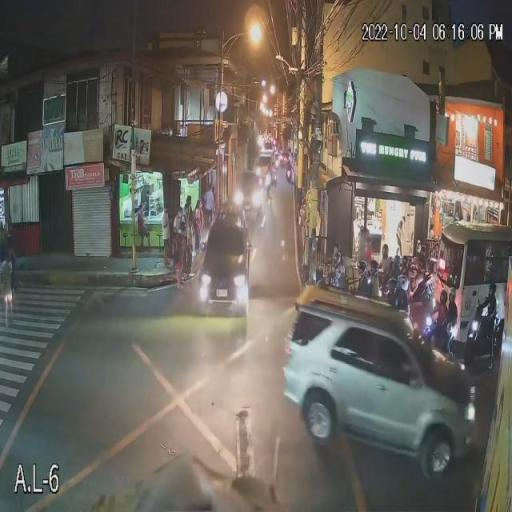helmet: (377, 240, 391, 262), (385, 277, 398, 298), (414, 245, 430, 262), (485, 280, 500, 298), (445, 285, 458, 304), (330, 251, 344, 268), (356, 261, 369, 277), (435, 289, 448, 304), (369, 259, 378, 279), (408, 264, 418, 275)
motorcycle: (456, 311, 496, 372), (413, 312, 450, 350), (401, 292, 431, 332), (350, 269, 380, 297), (375, 281, 405, 308), (319, 270, 348, 292), (284, 161, 294, 183)
rider: (471, 284, 497, 345), (410, 243, 430, 302), (428, 289, 451, 337), (396, 272, 417, 317), (445, 292, 460, 350), (375, 243, 393, 288), (383, 272, 405, 304), (328, 249, 346, 286), (368, 259, 382, 298), (354, 258, 372, 288), (283, 150, 294, 170)
